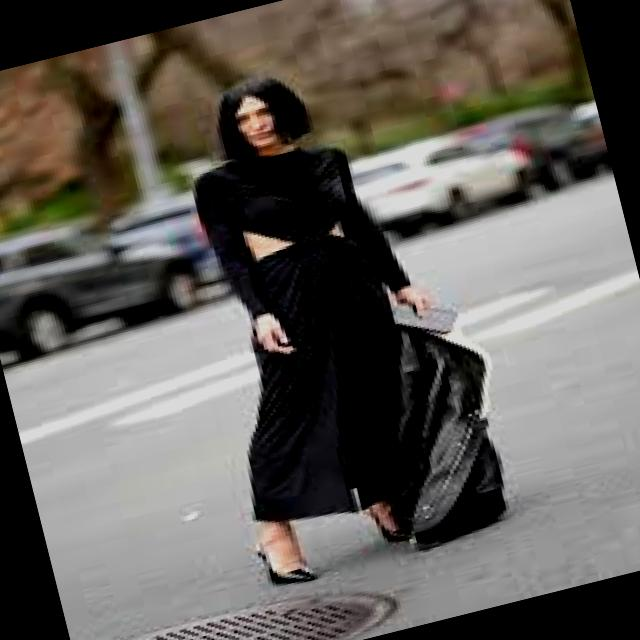dress: (194, 147, 409, 521)
foot-wear: (256, 548, 317, 584), (366, 511, 410, 542)
